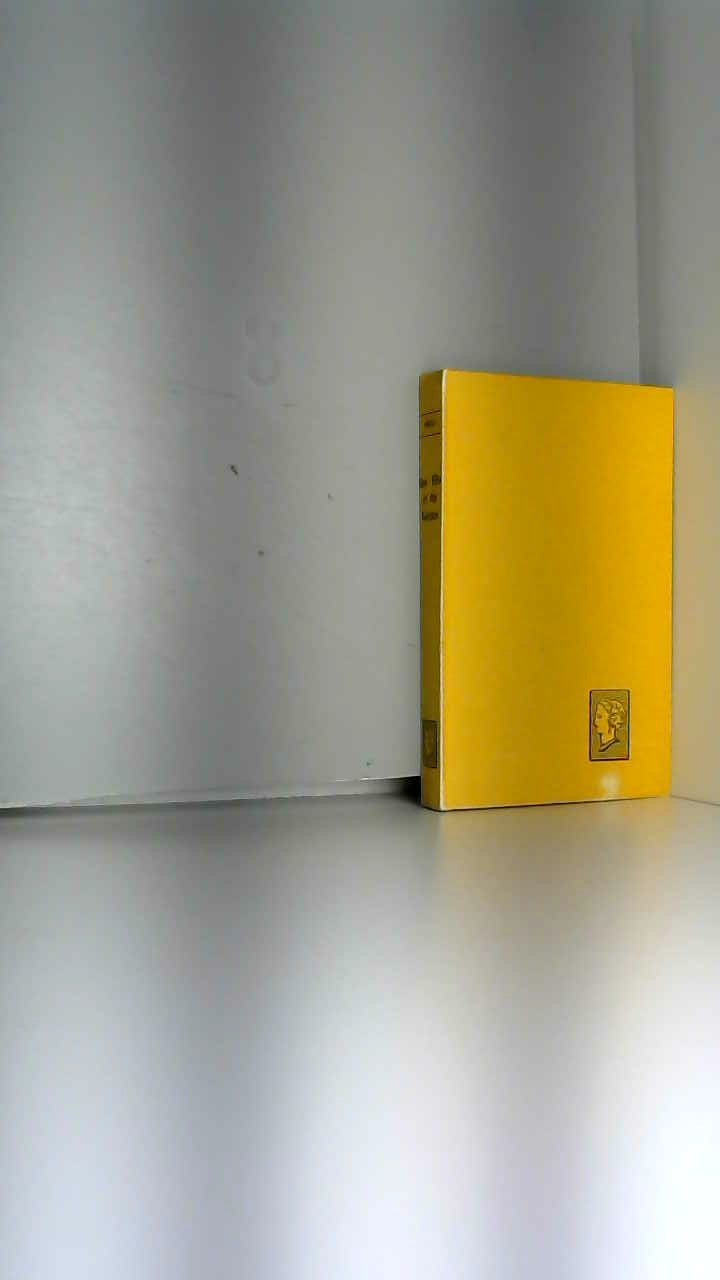book: (390, 340, 720, 835)
